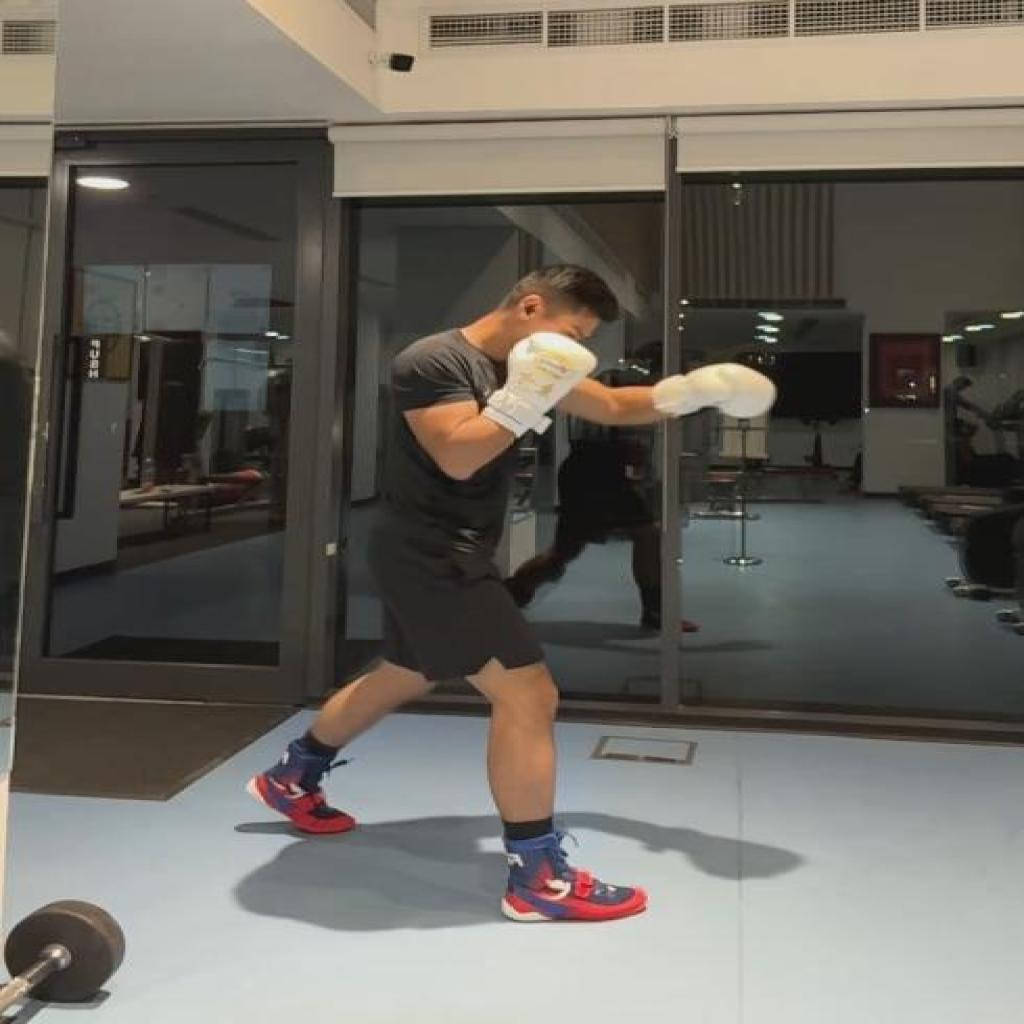cross: (244, 261, 778, 926)
